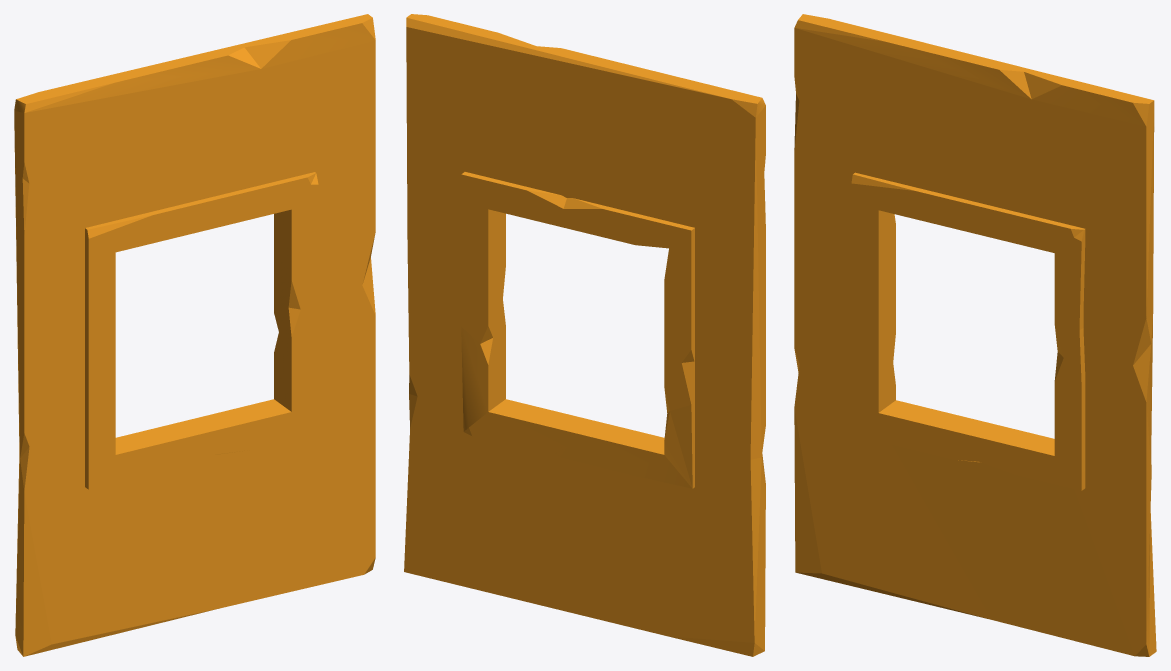
File: SM_Buildings_WallWindow_2x3_01P.fbx
The picture shows the model from 3 angles, left to right: view 1: azimuth 30°, elevation 25°; view 2: azimuth 150°, elevation 25°; view 3: azimuth 330°, elevation 25°; orthographic projection.
Parts seen in each view (by area): view 1: SM_Buildings_WallWindow_2x3_01P; view 2: SM_Buildings_WallWindow_2x3_01P; view 3: SM_Buildings_WallWindow_2x3_01P.
Part boxes in pixels (left/top/right/bottom): SM_Buildings_WallWindow_2x3_01P: left=14, top=14, right=375, bottom=656; SM_Buildings_WallWindow_2x3_01P: left=404, top=14, right=765, bottom=656; SM_Buildings_WallWindow_2x3_01P: left=794, top=14, right=1156, bottom=656.
Bounding box in the file's own units: 200 × 300 × 17.29.
